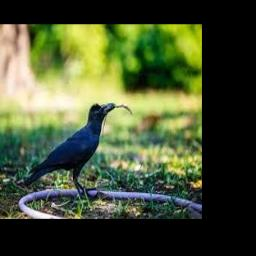Crow: (19, 103, 115, 193)
